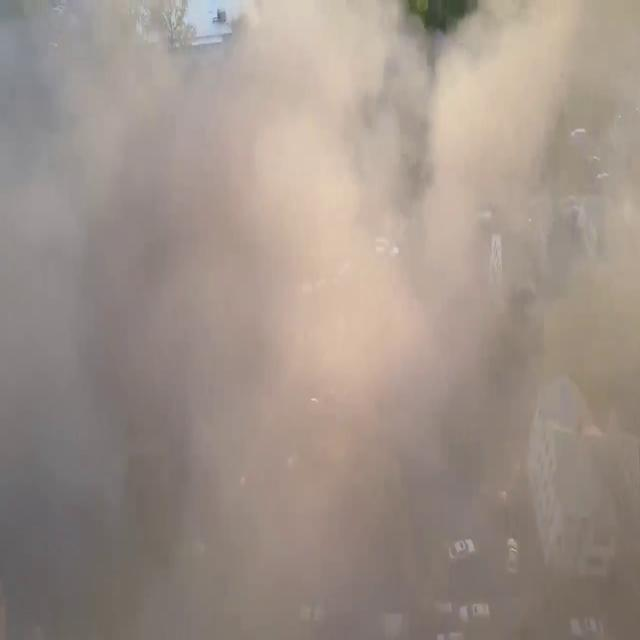Smoke: (1, 0, 640, 632)
